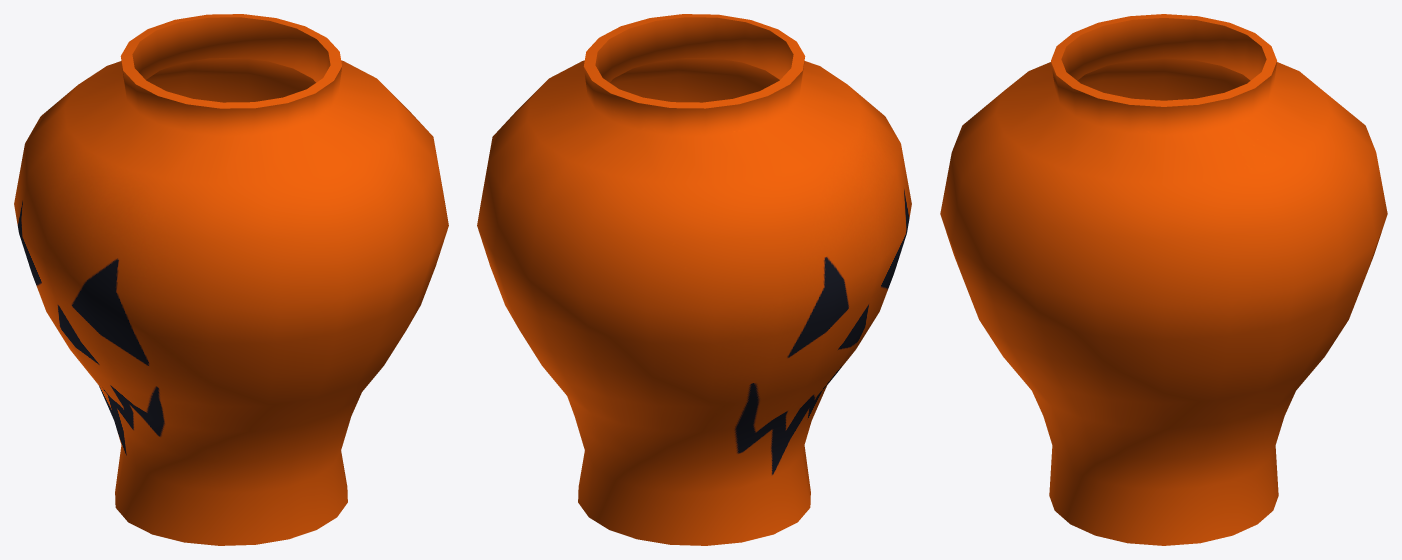
Rendered from VASE_PUMPKIN.fbx.
The picture shows the model from 3 angles, left to right: view 1: azimuth 30°, elevation 25°; view 2: azimuth 150°, elevation 25°; view 3: azimuth 270°, elevation 25°; orthographic projection.
Visible parts, largest first — view 1: vase_short_finished; view 2: vase_short_finished; view 3: vase_short_finished.
Boxes of the visible parts, x1,y1,x2,y2 form: vase_short_finished: (14,14,448,545); vase_short_finished: (477,14,911,545); vase_short_finished: (940,14,1387,545).
Bounding box in the file's own units: 99.68 × 111 × 103.
